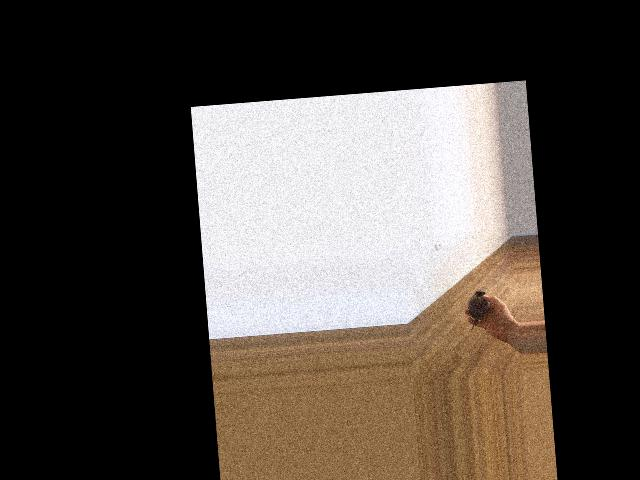beet: (465, 290, 491, 330)
